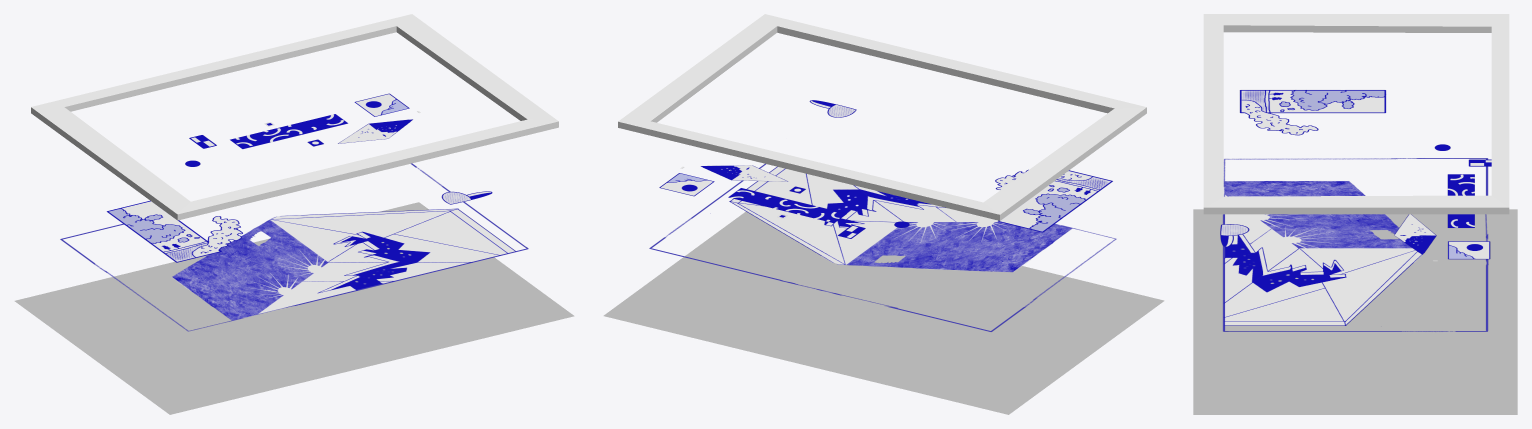
Rendered from paper theater.gltf.
3 renders of one model, left to right at view 1: azimuth 30°, elevation 25°; view 2: azimuth 150°, elevation 25°; view 3: azimuth 270°, elevation 25°, orthographic. The views are drawn at different scales.
Parts seen in each view (by area): view 1: 4.001, 3.001, Cube.001, 2.001; view 2: 4.001, Cube.001, 3.001, 2.001; view 3: 4.001, 3.001, Cube.001, 2.001.
Part boxes in pixels (<box>): 4.001: <box>14,202,574,414</box>; 3.001: <box>60,163,528,331</box>; Cube.001: <box>31,14,558,220</box>; 2.001: <box>107,93,492,262</box>; 4.001: <box>603,211,1164,414</box>; Cube.001: <box>618,14,1146,220</box>; 3.001: <box>649,163,1116,331</box>; 2.001: <box>659,100,1112,238</box>; 4.001: <box>1193,209,1517,414</box>; 3.001: <box>1223,158,1488,331</box>; Cube.001: <box>1203,14,1509,214</box>; 2.001: <box>1220,90,1491,261</box>.
Bounding box in the file's own units: 3.19 × 1.46 × 2.12.
